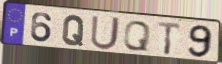6: (31, 12, 54, 44)
9: (187, 24, 215, 59)
Q: (122, 20, 153, 53), (61, 14, 87, 47)
T: (157, 21, 182, 57)
U: (89, 15, 122, 52)
